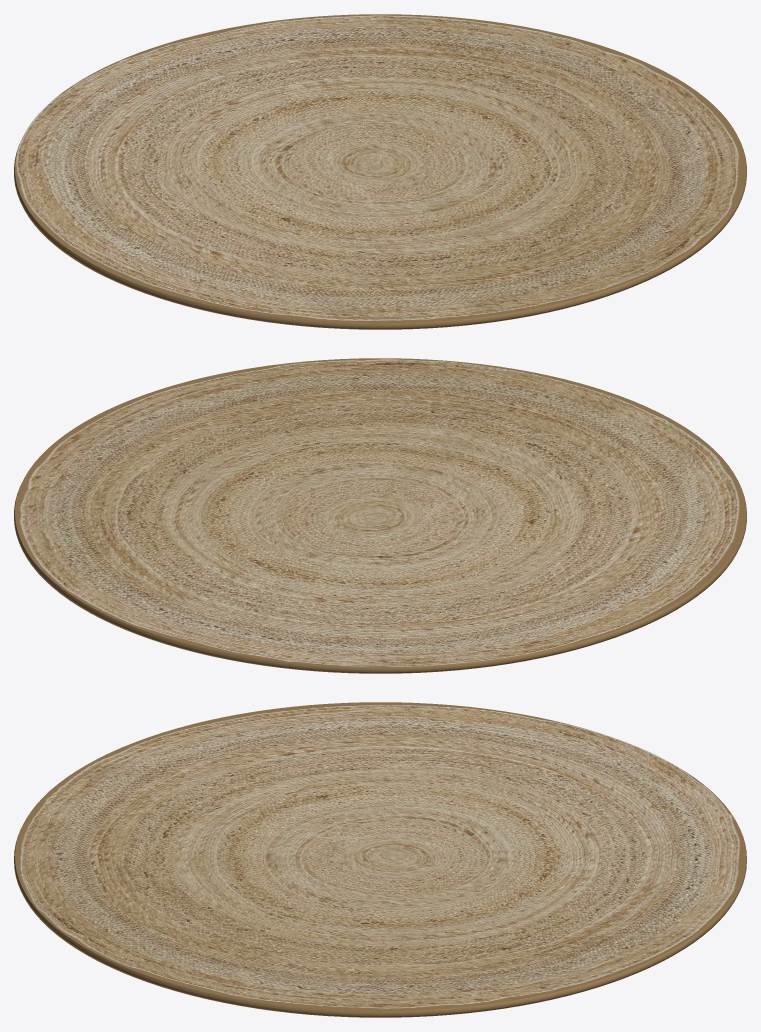
Rendered from mdm-250338.glb.
3 views of the same model, one above another, from view 1: azimuth 30°, elevation 25°; view 2: azimuth 150°, elevation 25°; view 3: azimuth 270°, elevation 25° (orthographic).
Visible parts, largest first — view 1: mdm-250338; view 2: mdm-250338; view 3: mdm-250338.
Part boxes in pixels (<box>): mdm-250338: <box>14,14,746,329</box>; mdm-250338: <box>14,358,746,673</box>; mdm-250338: <box>14,702,746,1017</box>.
Size of the model in its own units: 1.5 by 0.015 by 1.5.
Materials: 2 (1 with a texture image).
